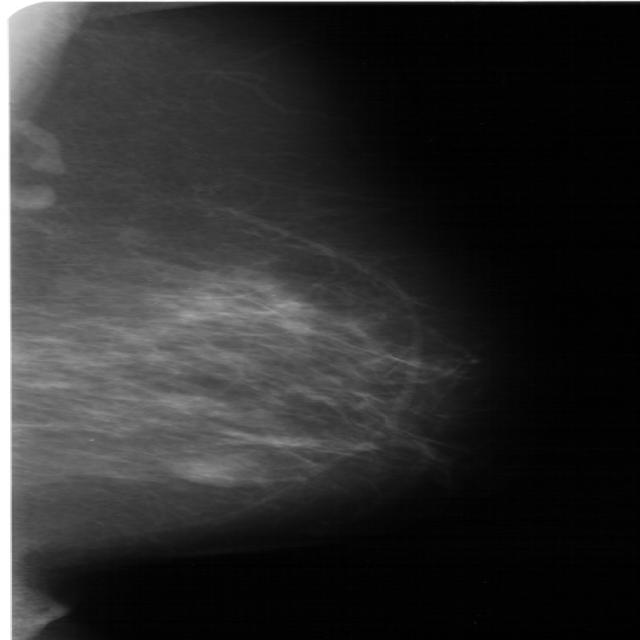tumour: (167, 451, 260, 486)
